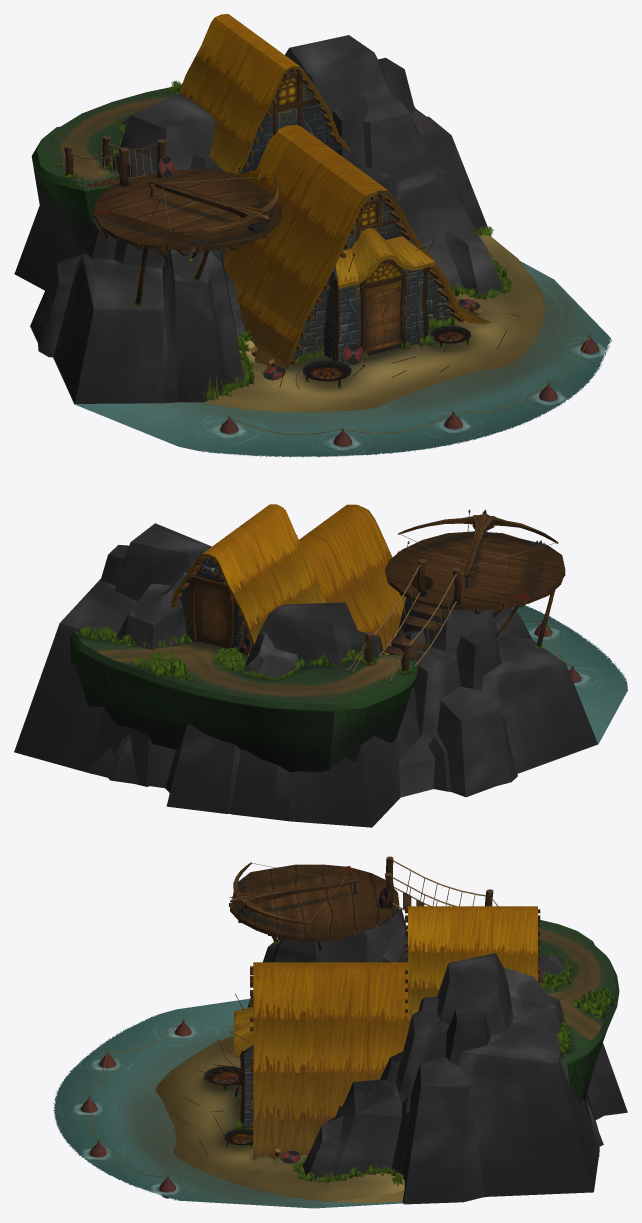
The model's file is watchtower.fbx.
3 renders of one model, top to bottom at view 1: azimuth 30°, elevation 25°; view 2: azimuth 150°, elevation 25°; view 3: azimuth 270°, elevation 25°, orthographic. The views are drawn at different scales.
Visible parts, largest first — view 1: house; view 2: house; view 3: house.
Boxes of the visible parts, x1,y1,x2,y2 form: house: (14, 14, 611, 457); house: (14, 504, 627, 827); house: (53, 856, 627, 1208).
Bounding box in the file's own units: 1423 × 717 × 1700.
Materials: 10 (10 with a texture image).
